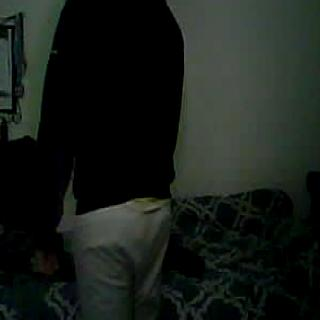White Sweatpants: (72, 189, 173, 320)
